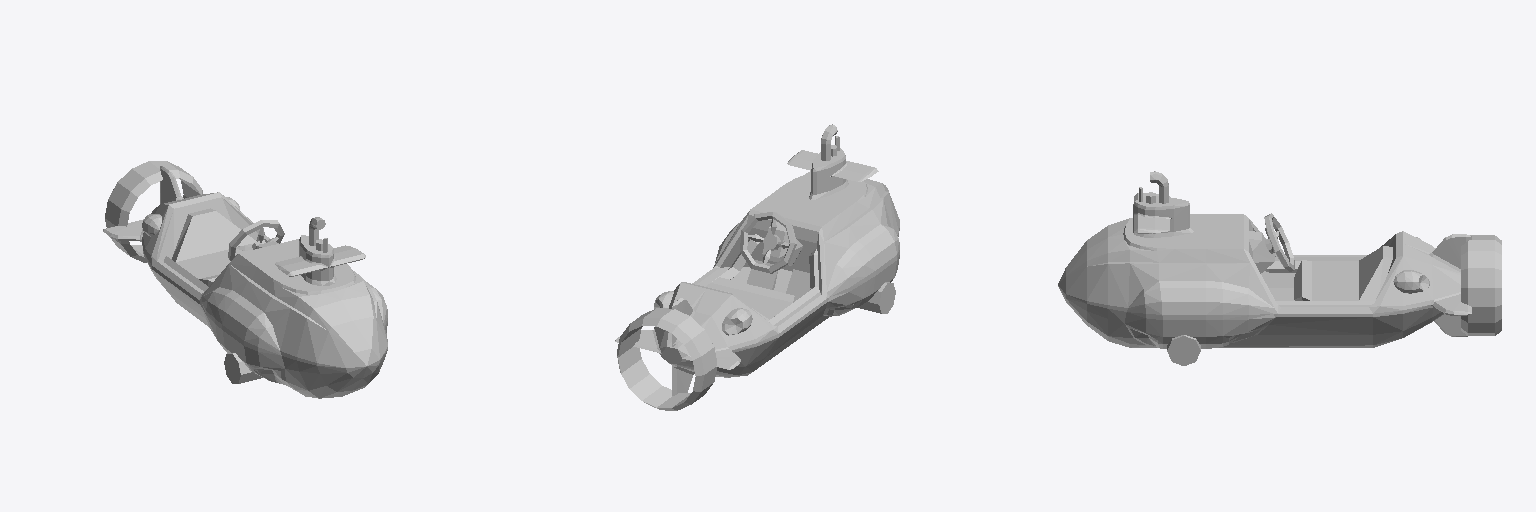
Rendered from steel_driver.obj.
3 views of the same model, side by side, from view 1: azimuth 30°, elevation 25°; view 2: azimuth 150°, elevation 25°; view 3: azimuth 270°, elevation 25° (orthographic).
Visible parts, largest first — view 1: BodyK_Sbm__m_Body; view 2: BodyK_Sbm__m_Body; view 3: BodyK_Sbm__m_Body.
Part boxes in pixels (x1,y1,x2,y2): BodyK_Sbm__m_Body: (103, 161, 387, 398); BodyK_Sbm__m_Body: (615, 124, 899, 410); BodyK_Sbm__m_Body: (1058, 171, 1501, 365).
Size of the model in its own units: 9.48 by 10.64 by 25.51.